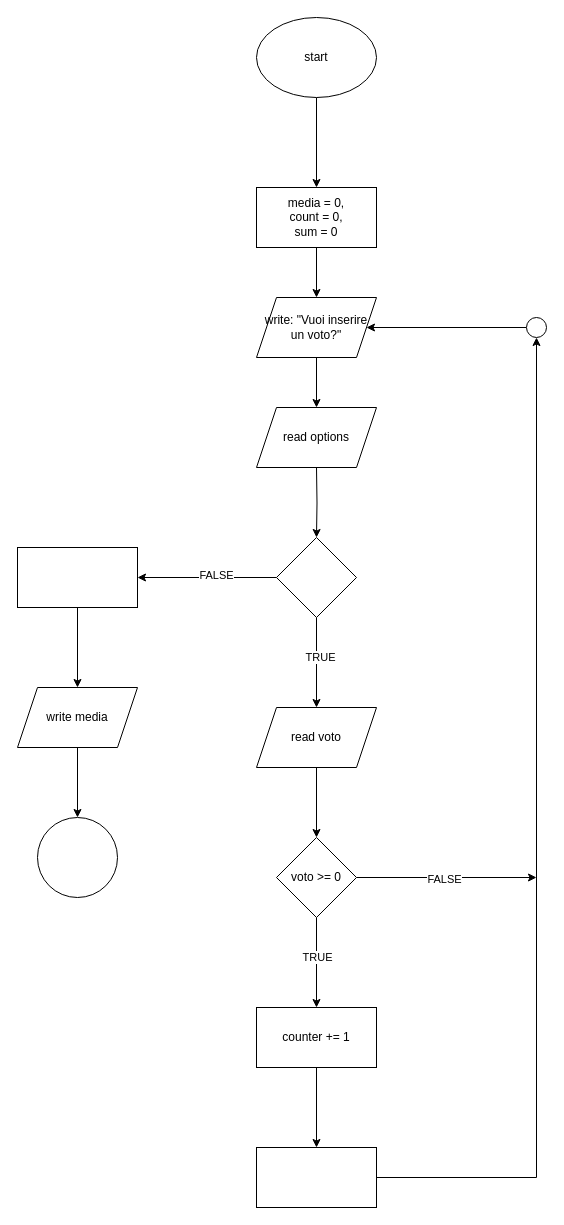
This 564x1225 diagram has some shape labels left out. The shapes that lost their labels are listed below. From the top down, each one's centre as x and y in pixels, then its label:
(77,577): media = sum/counter
(316,577): options == yes
(77,857): end
(316,1177): sum = sum + voto
